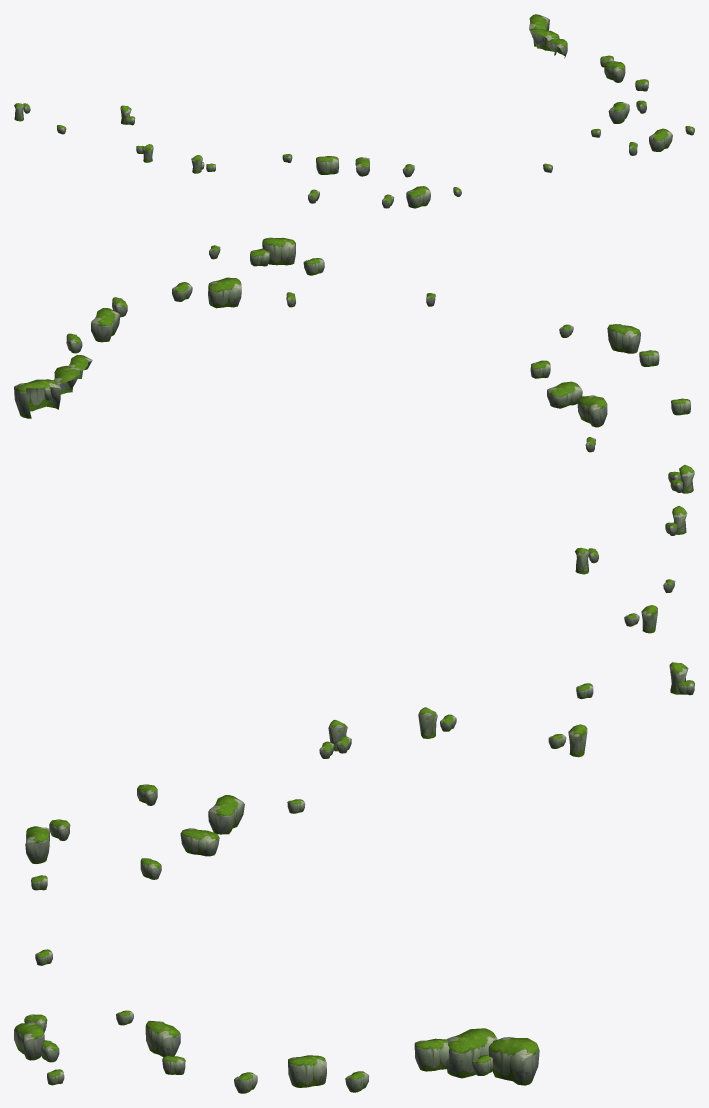
The model's file is lvyanshi_9.fbx.
3 views of the same model, one above another, from view 1: azimuth 30°, elevation 25°; view 2: azimuth 150°, elevation 25°; view 3: azimuth 270°, elevation 25° (orthographic). The views are drawn at different scales.
Parts seen in each view (by area): view 1: polySurface546; view 2: polySurface546; view 3: polySurface546.
Part boxes in pixels (x1,y1,x2,y2): polySurface546: (14, 14, 694, 208); polySurface546: (14, 237, 694, 633); polySurface546: (14, 662, 694, 1093).
Size of the model in its own units: 17623 by 733 by 12286.
